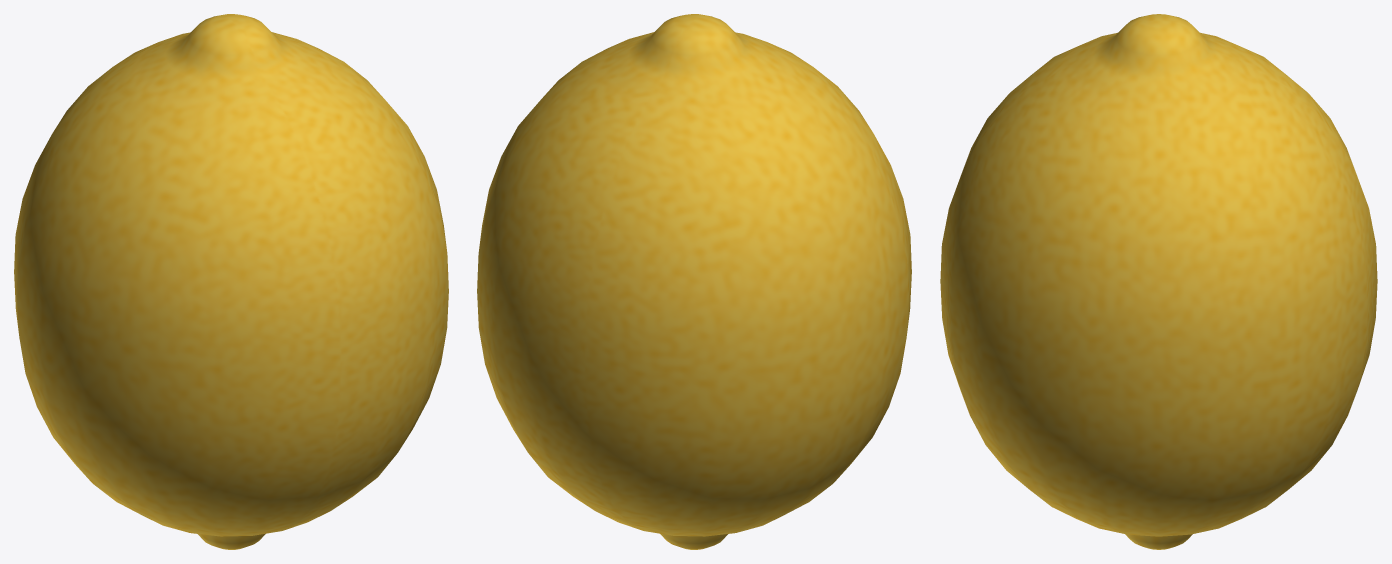
Rendered from lemon_yellow.fbx.
The picture shows the model from 3 angles, left to right: view 1: azimuth 30°, elevation 25°; view 2: azimuth 150°, elevation 25°; view 3: azimuth 270°, elevation 25°; orthographic projection.
Parts seen in each view (by area): view 1: pSphere3.002; view 2: pSphere3.002; view 3: pSphere3.002.
Part boxes in pixels (left/top/right/bottom): pSphere3.002: left=14, top=14, right=448, bottom=549; pSphere3.002: left=477, top=14, right=911, bottom=549; pSphere3.002: left=940, top=14, right=1377, bottom=549.
Bounding box in the file's own units: 0.6111 × 0.8092 × 0.6111.
